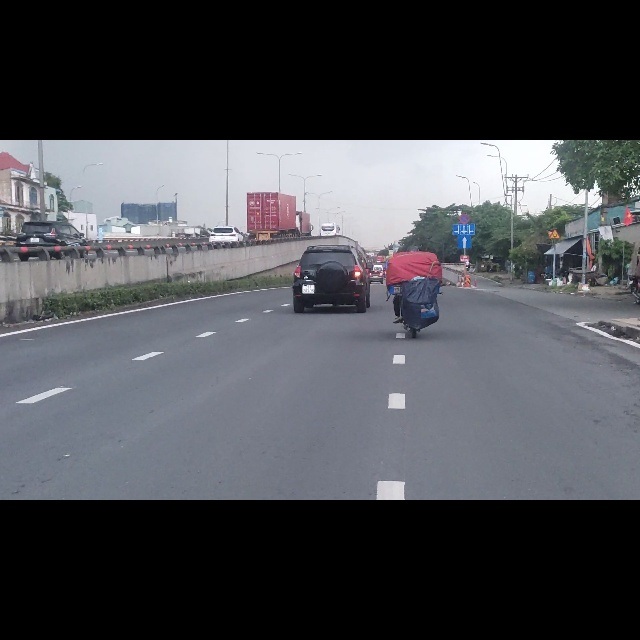bien_cam: (458, 169, 472, 193), (458, 129, 470, 149), (549, 159, 560, 174)
